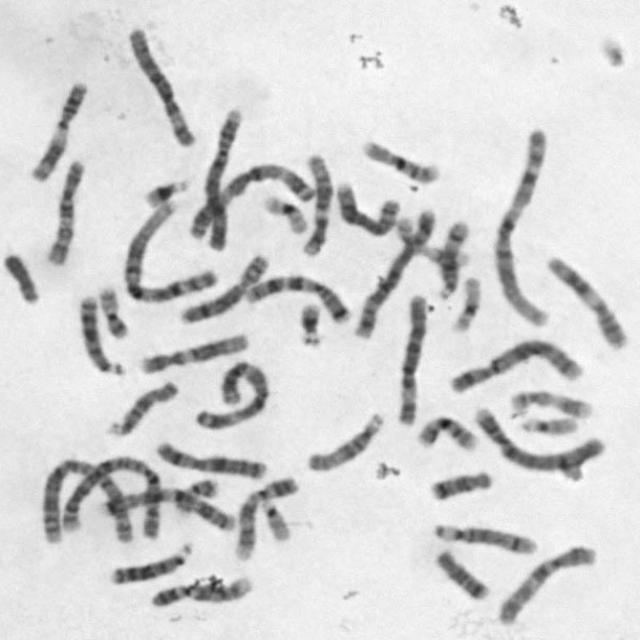A1: (489, 126, 554, 331), (119, 200, 219, 306)
A2: (61, 455, 166, 543), (38, 454, 134, 547)
A3: (185, 159, 318, 243), (190, 356, 271, 432)
B4: (470, 402, 596, 476), (200, 103, 246, 252)
B5: (350, 205, 440, 338), (446, 335, 585, 396)
C10: (492, 541, 600, 627), (41, 154, 87, 268)
C11: (542, 251, 628, 350), (25, 76, 91, 184)
C12: (136, 329, 250, 375), (296, 151, 334, 259)
C6: (124, 23, 198, 149), (392, 290, 428, 428)
C7: (92, 484, 238, 533), (240, 271, 354, 324)
C8: (175, 250, 272, 326), (332, 179, 400, 238)
C9: (230, 472, 300, 562), (146, 572, 254, 610)
D13: (74, 290, 126, 378), (106, 538, 193, 585)
D14: (429, 520, 539, 557), (433, 216, 471, 301)
D15: (303, 409, 386, 474), (103, 376, 180, 439)
E16: (358, 136, 440, 184), (412, 413, 478, 452)
E17: (394, 214, 472, 270), (506, 386, 595, 421)
E18: (432, 546, 491, 601), (427, 467, 494, 503)
F19: (258, 192, 309, 236), (448, 273, 484, 332)
F20: (169, 475, 220, 516), (96, 284, 130, 340)
G21: (140, 175, 190, 209), (295, 299, 325, 349)
G22: (258, 497, 293, 544), (515, 412, 580, 437)
X: (152, 439, 269, 480)
Y: (1, 250, 42, 305)
